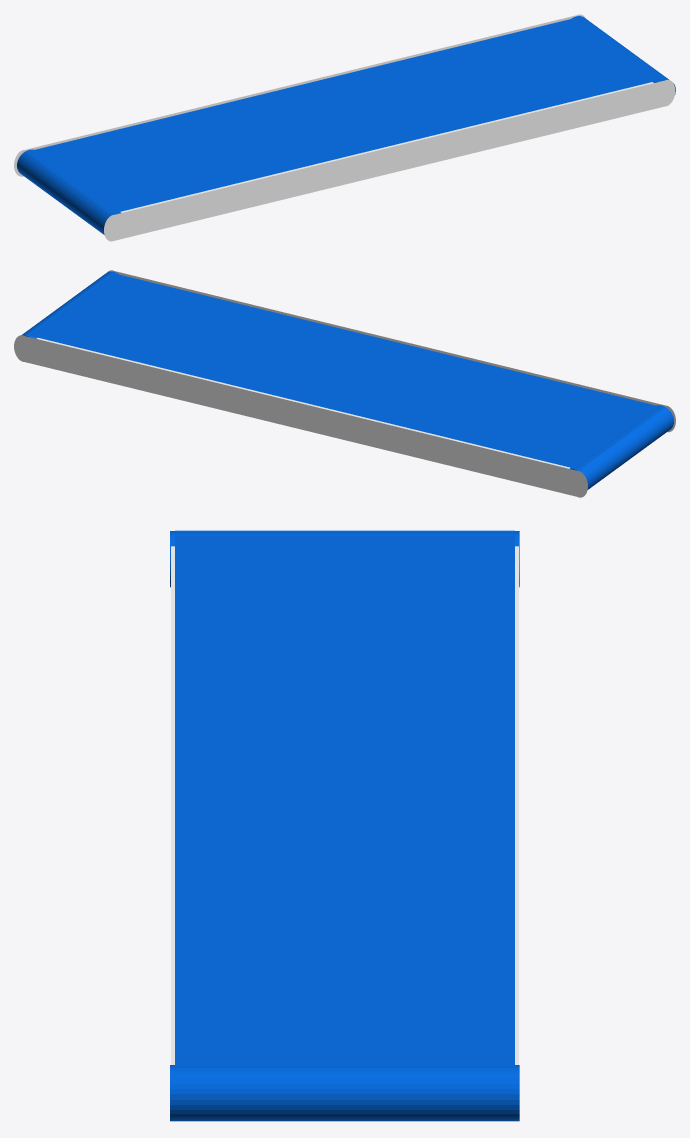
The model's file is cinta.glb.
The picture shows the model from 3 angles, top to bottom: view 1: azimuth 30°, elevation 25°; view 2: azimuth 150°, elevation 25°; view 3: azimuth 270°, elevation 25°; orthographic projection. The views are drawn at different scales.
Parts seen in each view (by area): view 1: cinta_Unido.002; view 2: cinta_Unido.002; view 3: cinta_Unido.002.
Boxes of the visible parts, x1=… form: cinta_Unido.002: x1=14, y1=14, x2=675, y2=241; cinta_Unido.002: x1=14, y1=270, x2=675, y2=497; cinta_Unido.002: x1=170, y1=530, x2=519, y2=1121.
Bounding box in the file's own units: 11.92 × 0.5251 × 3.2.
